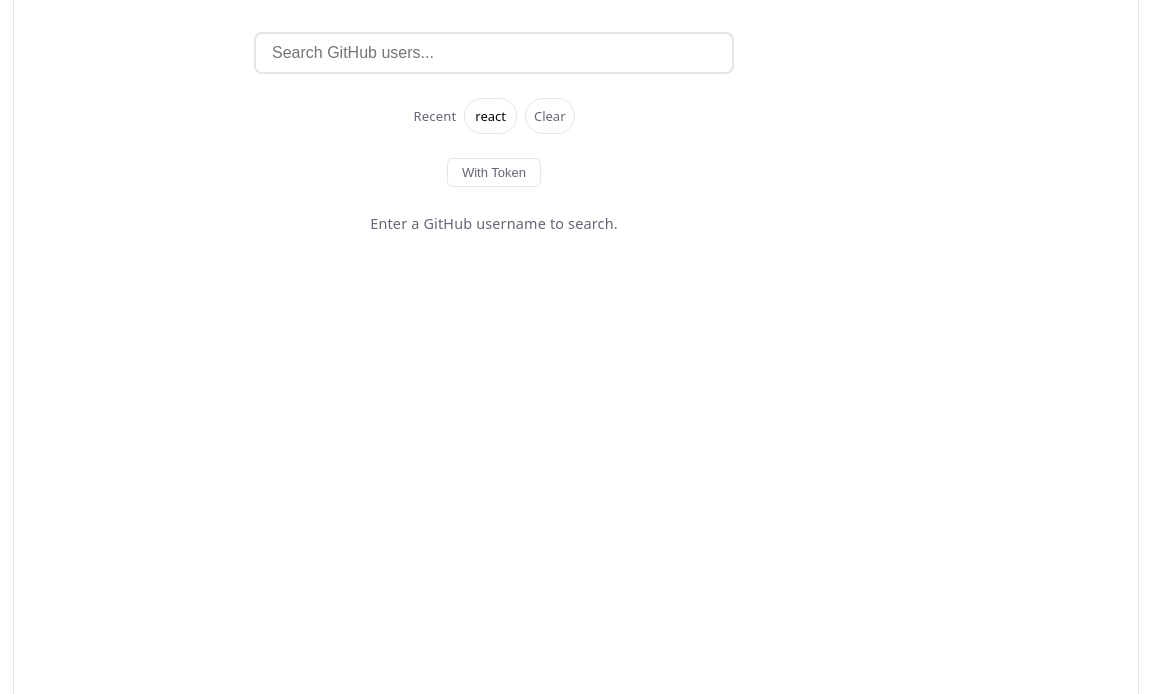
Test: search page › uses a recent search to update the URL-backed search input
Click the button with aria-label "Search react again" at (491, 116), box [464,98,517,134]
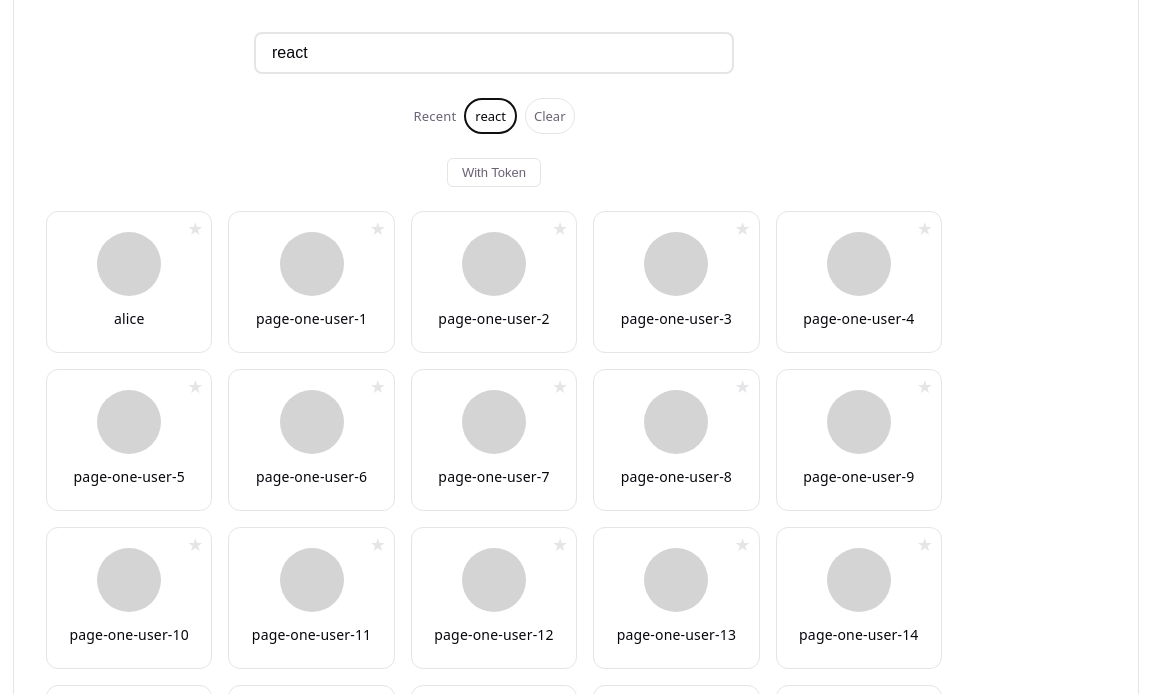
Expected: the search field named "Search users" holds "react", [254,32,734,74]
